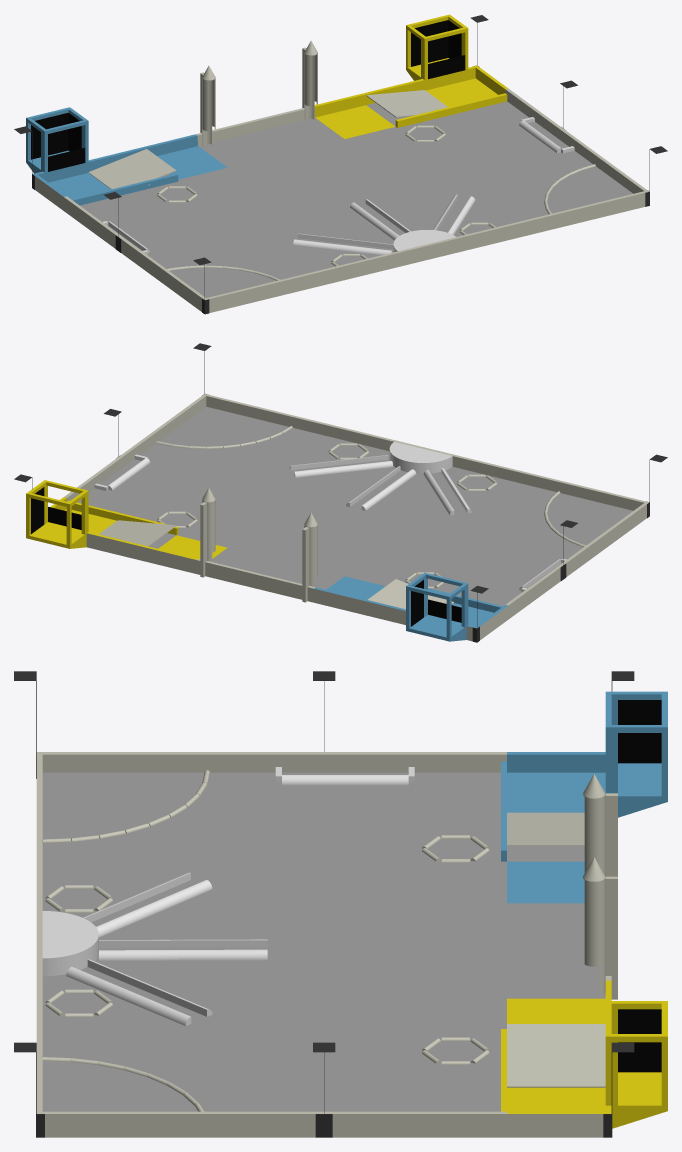
The model's file is table_statique.dae.
3 renders of one model, top to bottom at view 1: azimuth 30°, elevation 25°; view 2: azimuth 150°, elevation 25°; view 3: azimuth 270°, elevation 25°, orthographic. The views are drawn at different scales.
Parts seen in each view (by area): view 1: Plateau, Group1, Group10, Group28, Group33, TasseauZon, TasseauZo1, Group23, Group16, Group7, DemiSuppo6, DemiSuppo7; view 2: Plateau, Group1, Group10, Group23, Group33, Group9, Group28, DemiSuppo4, TasseauZon, Group15, DemiSuppo5, Group6 (+4 smaller); view 3: Plateau, Group33, Group10, Group1, Group23, Group28, DemiSuppo3, Group7, Group, Group9, DemiSuppo5, Group16 (+8 smaller).
Part boxes in pixels (left/top/right/bottom): Plateau: left=33, top=65, right=649, bottom=312; Group1: left=406, top=14, right=468, bottom=79; Group10: left=26, top=107, right=88, bottom=172; Group28: left=88, top=149, right=176, bottom=189; Group33: left=366, top=90, right=447, bottom=117; TasseauZon: left=395, top=93, right=507, bottom=127; TasseauZo1: left=71, top=173, right=178, bottom=205; Group23: left=393, top=230, right=455, bottom=252; Group16: left=202, top=78, right=215, bottom=131; Group7: left=304, top=53, right=317, bottom=106; DemiSuppo6: left=293, top=239, right=391, bottom=255; DemiSuppo7: left=298, top=233, right=393, bottom=249; Plateau: left=47, top=394, right=648, bottom=641; Group1: left=26, top=480, right=88, bottom=545; Group10: left=406, top=572, right=468, bottom=638; Group23: left=389, top=442, right=452, bottom=473; Group33: left=99, top=520, right=176, bottom=546; Group9: left=406, top=616, right=466, bottom=641; Group28: left=367, top=579, right=454, bottom=609; DemiSuppo4: left=294, top=461, right=393, bottom=477; TasseauZon: left=67, top=500, right=178, bottom=534; Group15: left=302, top=527, right=309, bottom=602; DemiSuppo5: left=289, top=455, right=388, bottom=470; Group6: left=200, top=502, right=206, bottom=577; Plateau: left=36, top=752, right=611, bottom=1137; Group33: left=507, top=1024, right=605, bottom=1087; Group10: left=605, top=691, right=667, bottom=796; Group1: left=605, top=1001, right=667, bottom=1105; Group23: left=42, top=911, right=98, bottom=976; Group28: left=507, top=812, right=584, bottom=846; DemiSuppo3: left=99, top=949, right=267, bottom=960; Group7: left=584, top=878, right=605, bottom=966; Group: left=612, top=1072, right=667, bottom=1111; Group9: left=618, top=763, right=667, bottom=801; DemiSuppo5: left=66, top=966, right=191, bottom=1025; Group16: left=584, top=795, right=605, bottom=876.
Size of the model in its own units: 17.12 by 12.42 by 2.96.
